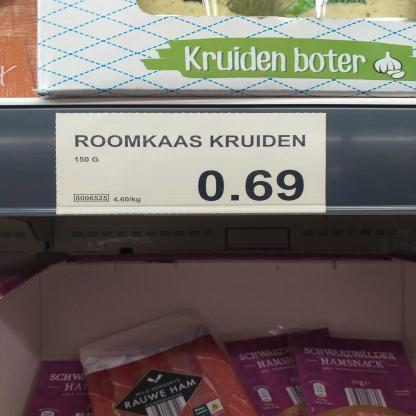prtg: (54, 113, 328, 215)
